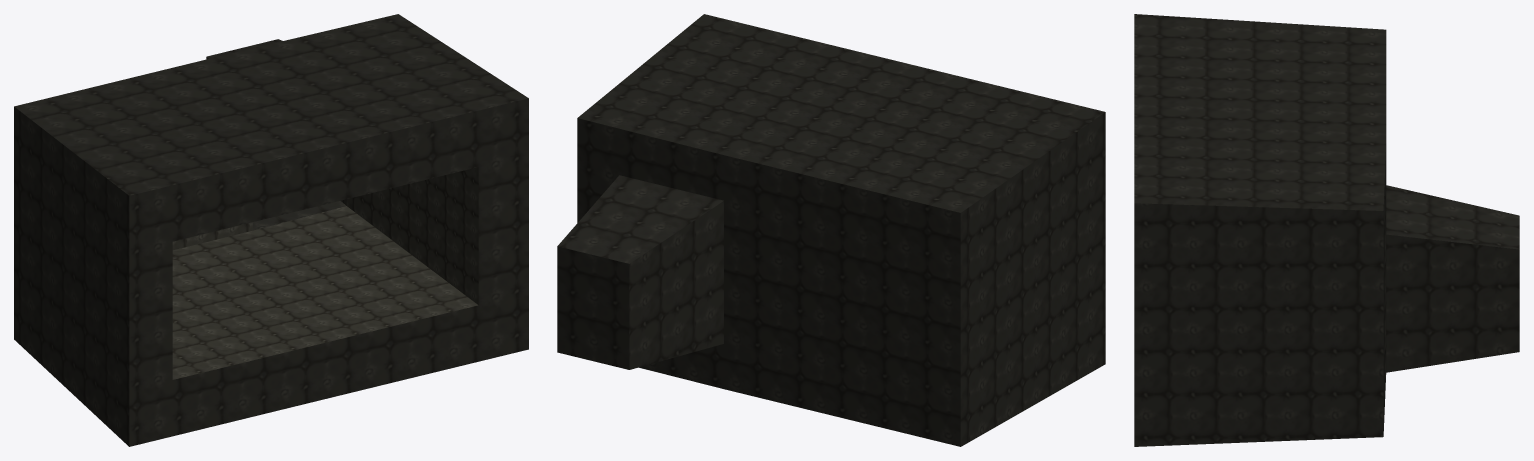
File: Room1.fbx
3 views of the same model, side by side, from view 1: azimuth 30°, elevation 25°; view 2: azimuth 150°, elevation 25°; view 3: azimuth 270°, elevation 25° (orthographic). The views are drawn at different scales.
Visible parts, largest first — view 1: room_1; view 2: room_1; view 3: room_1.
Boxes of the visible parts, box(x1,y1,x2,y2) form: room_1: box(14, 14, 528, 446); room_1: box(557, 14, 1105, 446); room_1: box(1134, 14, 1519, 446).
Bounding box in the file's own units: 588 × 353 × 505.
Materials: 2 (2 with a texture image).
